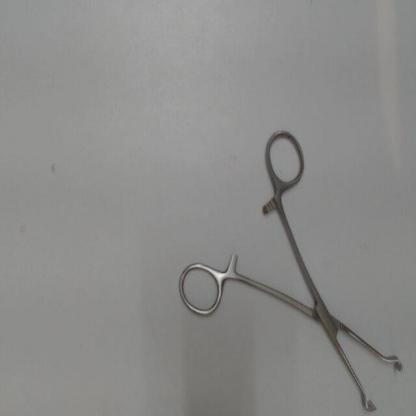Babcock Tissue Forceps: (175, 120, 408, 415)
